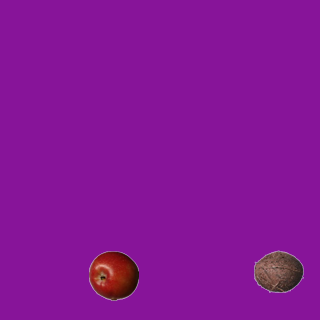Apple Braeburn: (88, 250, 138, 300)
Cocos: (253, 246, 303, 296)
